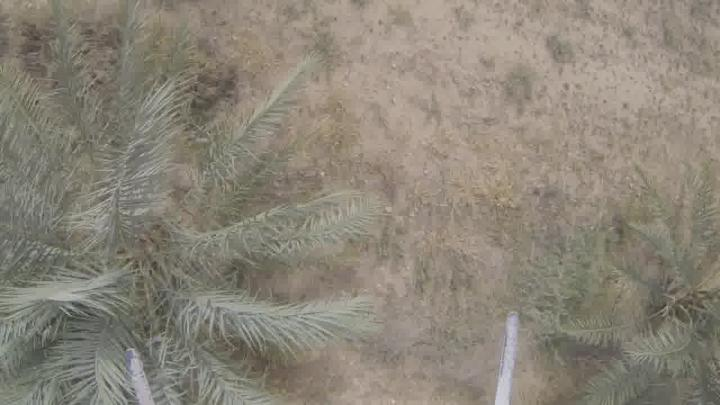Date-Palm-Crown: (0, 104, 286, 405), (608, 210, 720, 394)
